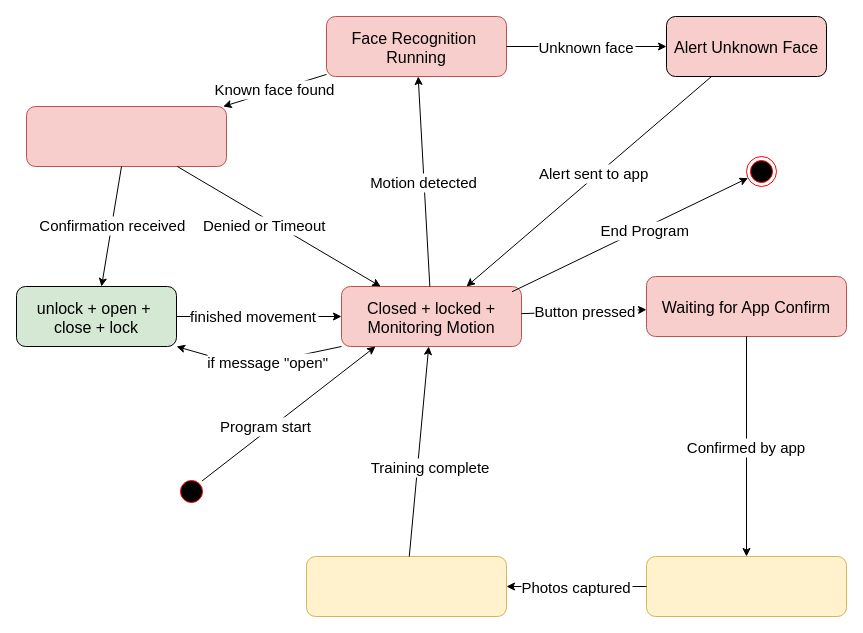
This 863x633 diagram has some shape labels left out. The box of each missing label's shape, as (x1, y1, x2, y2) in pixels:
Capture Training Photos: (646, 556, 846, 616)
Train Encodings: (306, 556, 506, 616)
Waiting for Unlock Confirmation: (26, 106, 226, 166)
